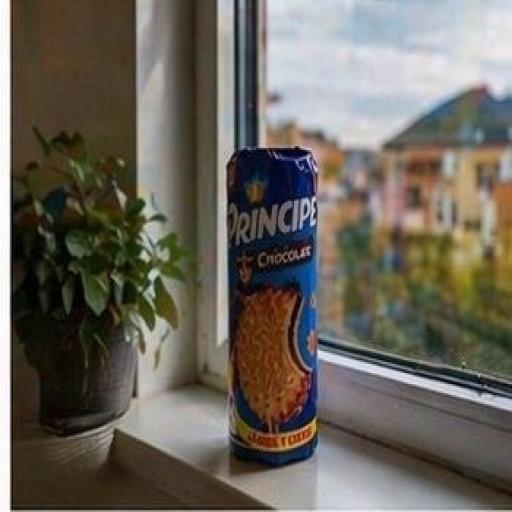prince: (176, 96, 408, 502)
